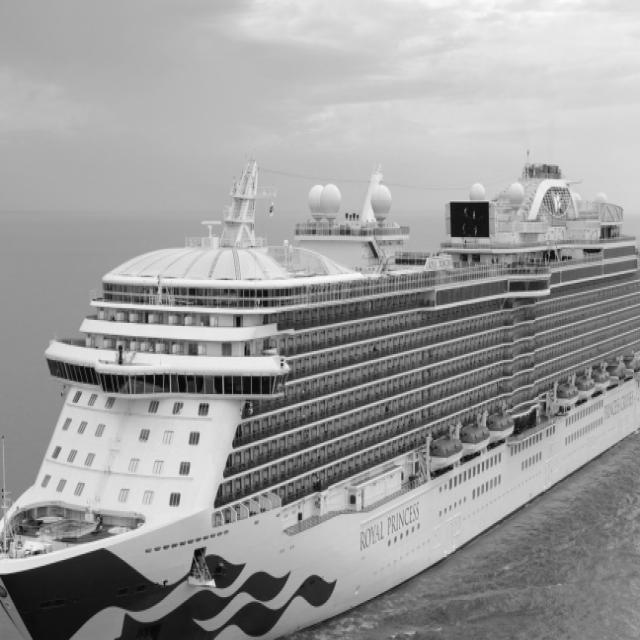cruises: (1, 118, 640, 640)
